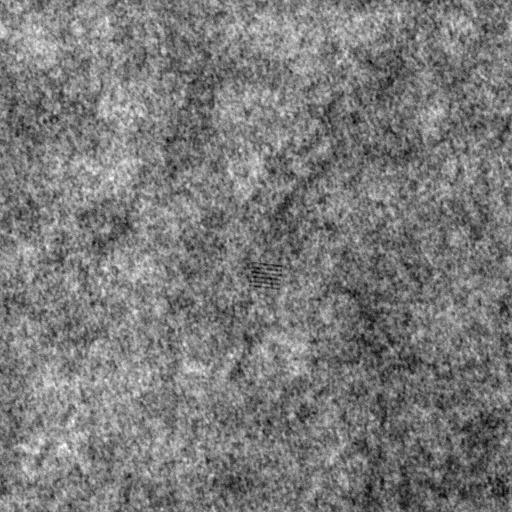DefectTypeB: (249, 260, 283, 291)
